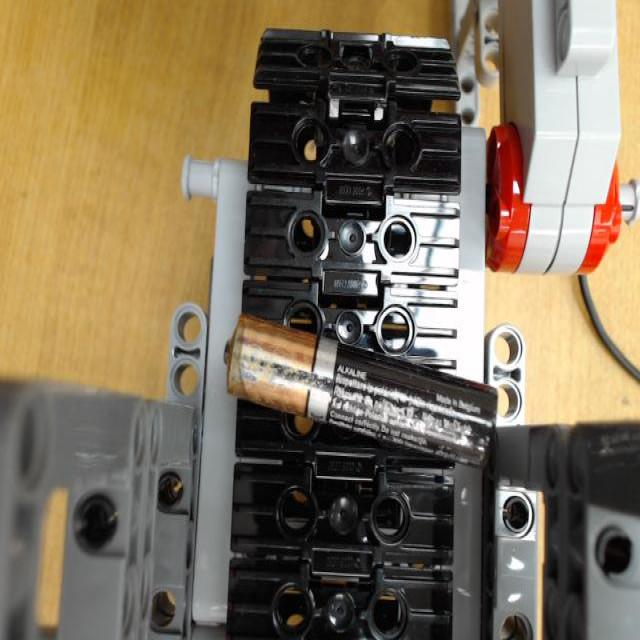AAA: (221, 313, 498, 467)
